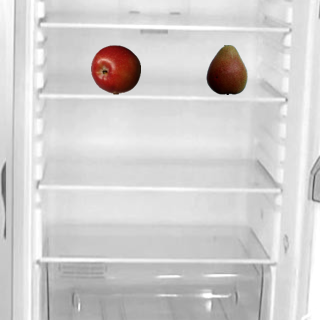Apple Braeburn: (90, 44, 140, 94)
Pear Forelle: (201, 44, 251, 94)
